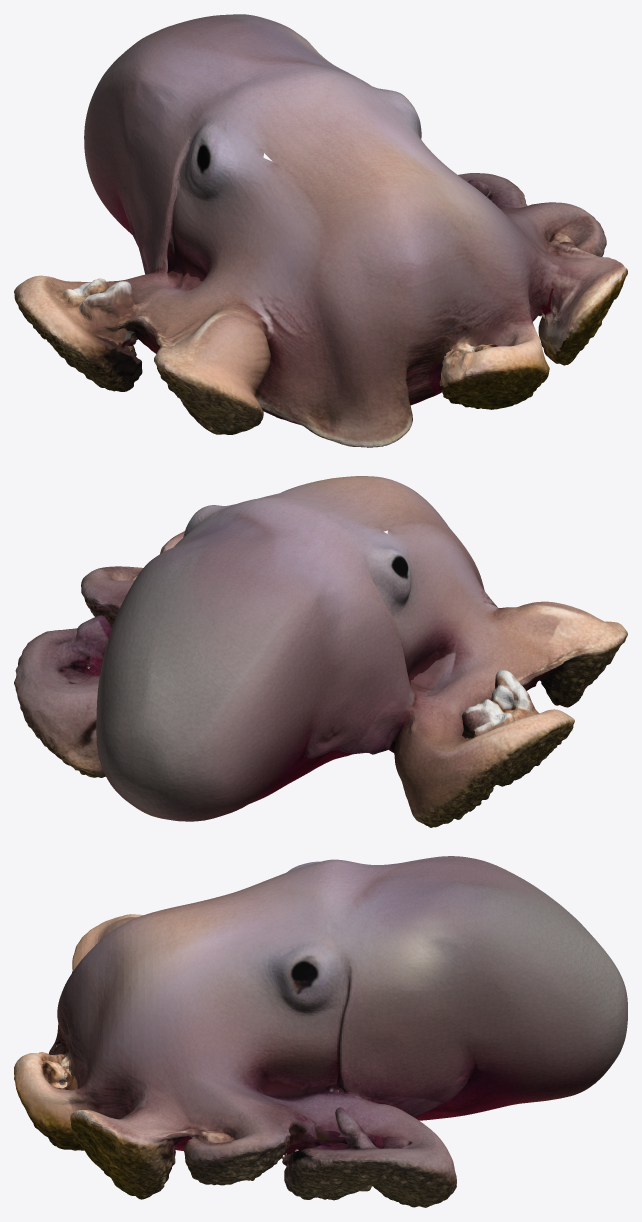
File: paint_mesh_Grimpoteuthis.glb
3 views of the same model, one above another, from view 1: azimuth 30°, elevation 25°; view 2: azimuth 150°, elevation 25°; view 3: azimuth 270°, elevation 25° (orthographic). The views are drawn at different scales.
Visible parts, largest first — view 1: world; view 2: world; view 3: world.
Part boxes in pixels (left/top/right/bottom): world: left=14, top=14, right=627, bottom=447; world: left=14, top=476, right=627, bottom=827; world: left=14, top=856, right=627, bottom=1207.
Size of the model in its own units: 1.88 by 0.9498 by 1.99.
1 material, 1 textured.
